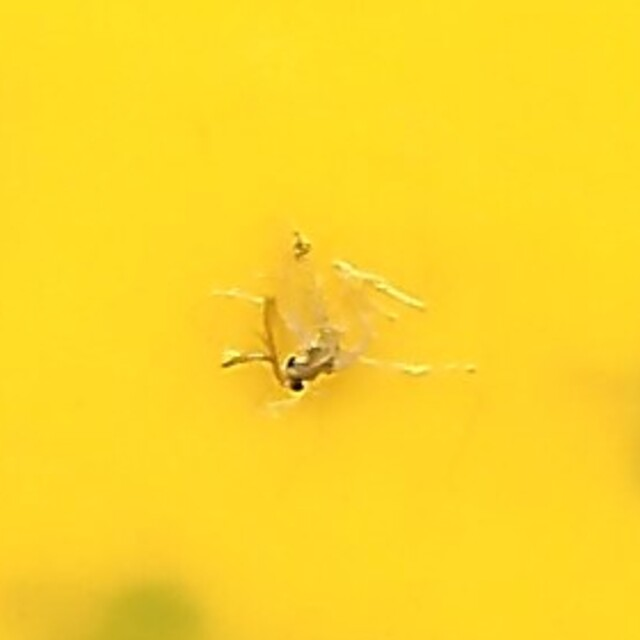Nematocera: (229, 221, 411, 419)
